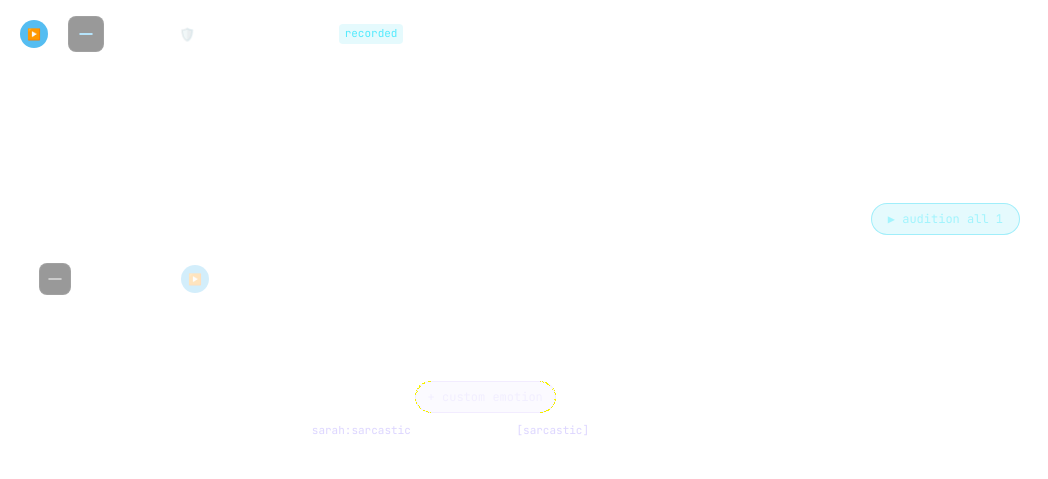
Test: EmotionRack — a failed preview says WHY › carries the backend's own detail instead of a bare 'preview failed'
The width and height of the screenshot is (1048, 479).
Click the button named "Play Baseline" at [34, 34], box x1=20 y1=20 x2=48 y2=48
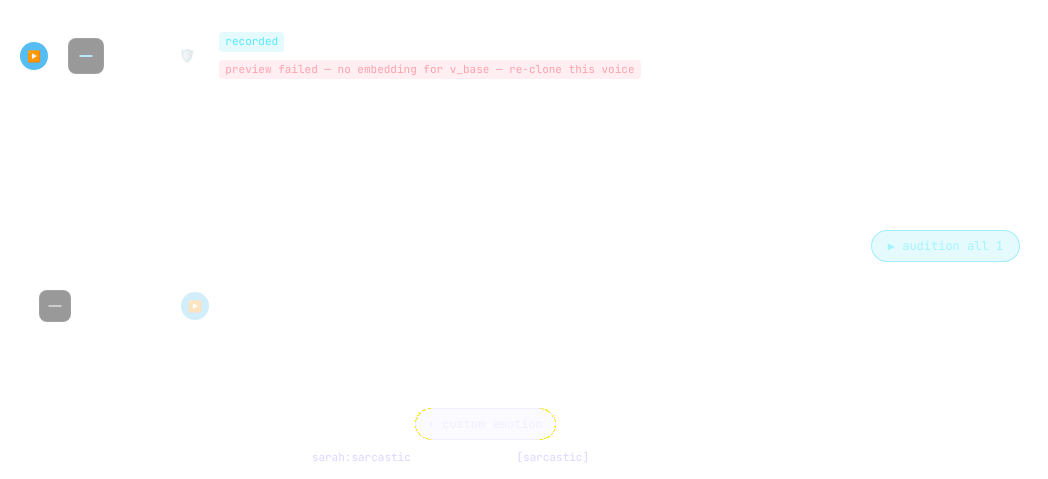
Expected: the text "preview failed — no embedding for v_base" is shown, x1=225 y1=62 x2=634 y2=76
